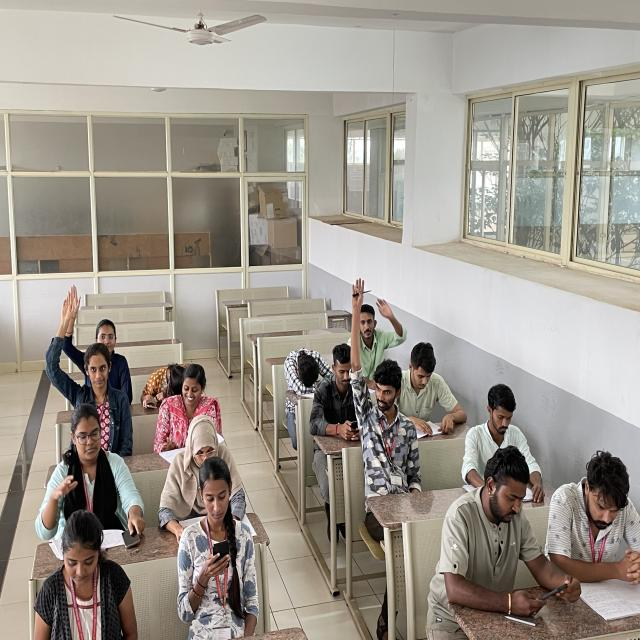Reading: (568, 445, 640, 608), (401, 342, 466, 437)
Sleeping: (278, 334, 331, 397)
Using Phone: (429, 441, 568, 618)
